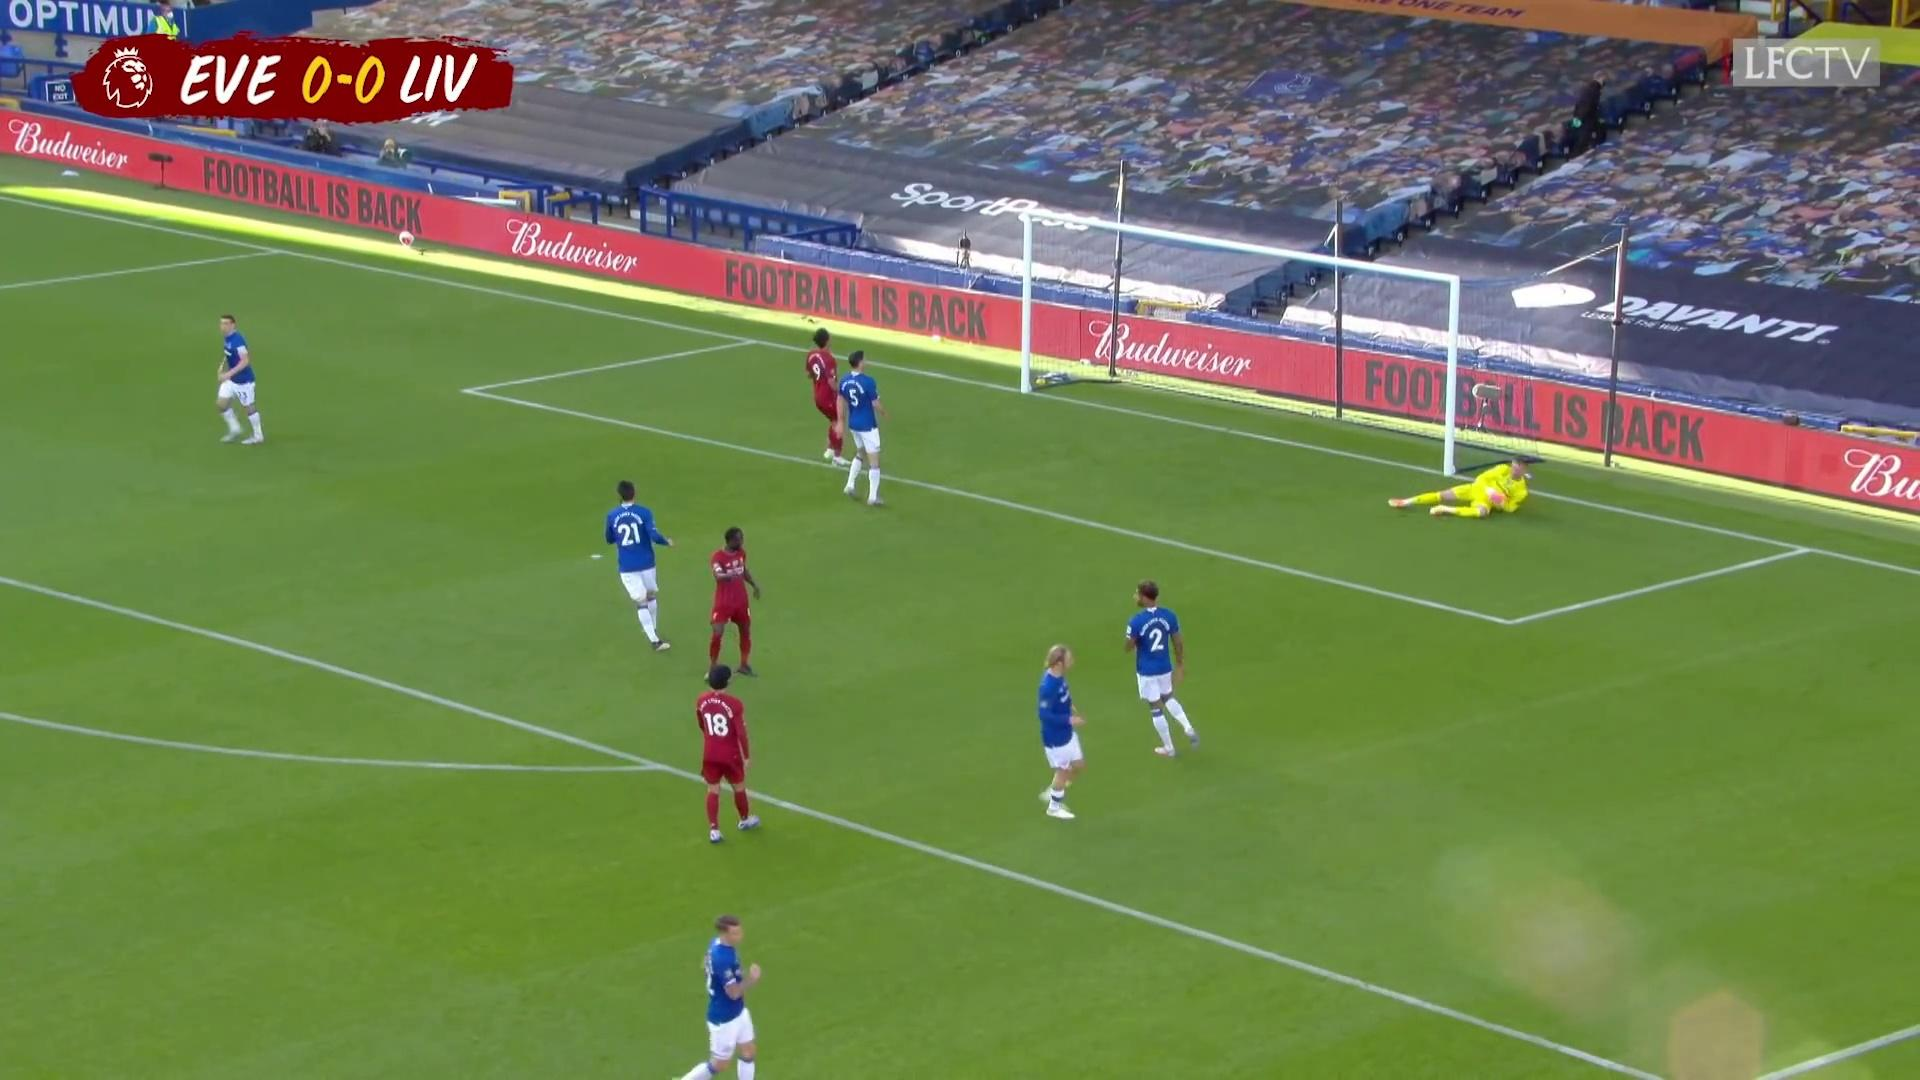ball: (395, 227, 419, 251)
goalkeeper: (1389, 452, 1531, 521)
player: (672, 912, 763, 1080), (1121, 575, 1204, 759), (604, 476, 675, 653), (695, 663, 761, 845), (699, 524, 763, 684), (1035, 643, 1087, 821), (833, 347, 889, 509), (213, 315, 268, 448), (804, 327, 855, 470)
